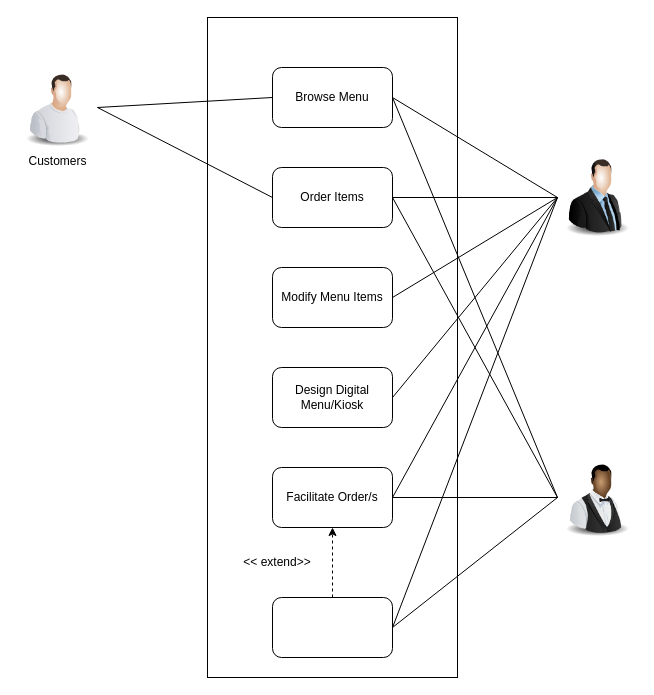
The diagram is 654 pixels wide and 695 high, and some of its shapes have lost their labels. Each missing label, with the box of its shape:
Establishment Employee: (557, 457, 637, 537)
MenuMaApp "Order" Application: (206, 16, 458, 678)
Update Order Queue: (272, 596, 392, 658)
